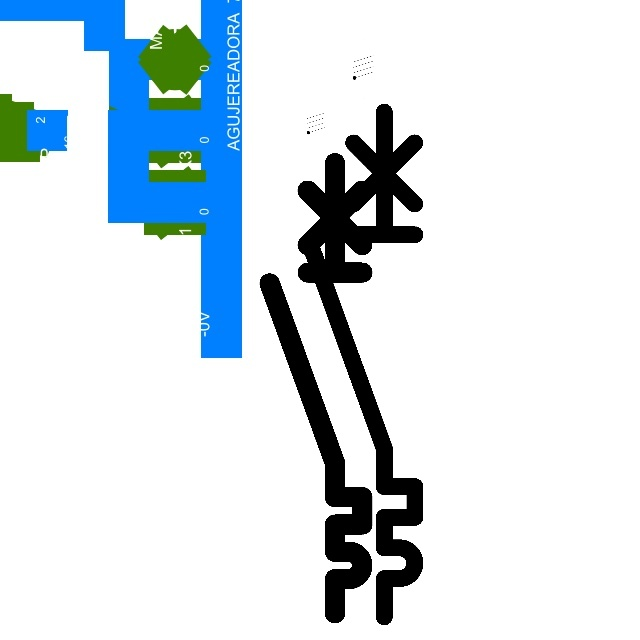interruptor_termomagnetico: (298, 99, 428, 630), (258, 151, 374, 624)
